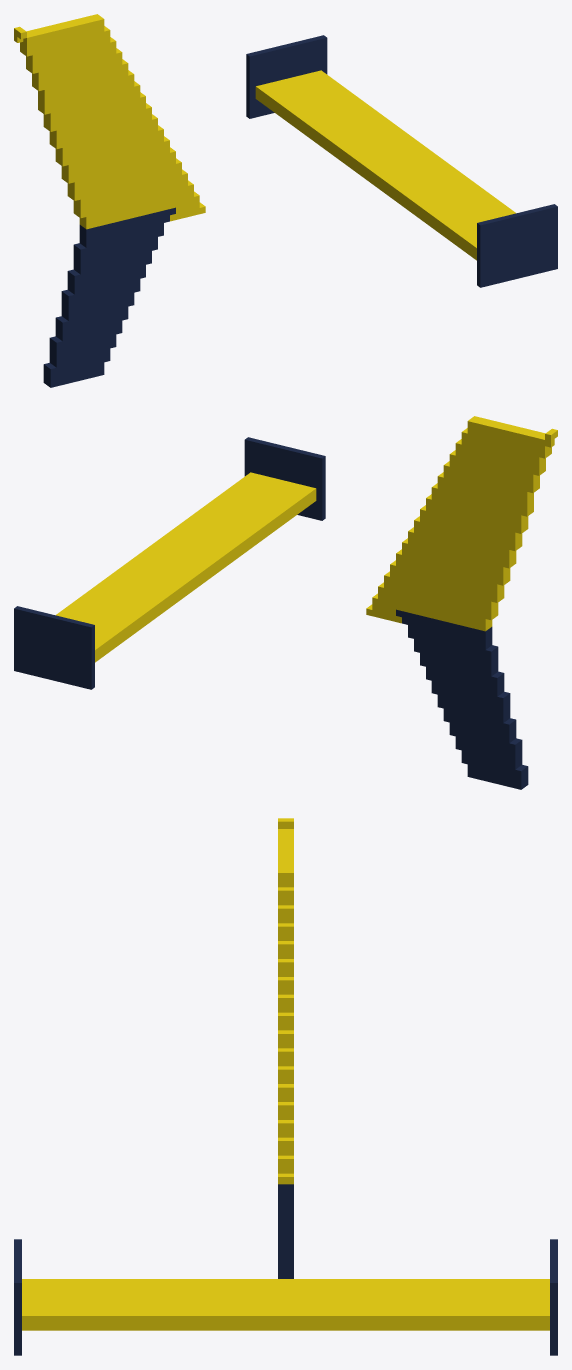
File: police_helicopter_tail_surfaces.glb
The picture shows the model from 3 angles, top to bottom: view 1: azimuth 30°, elevation 25°; view 2: azimuth 150°, elevation 25°; view 3: azimuth 270°, elevation 25°; orthographic projection. The views are drawn at different scales.
Visible parts, largest first — view 1: body:compound; view 2: body:compound; view 3: body:compound.
Part boxes in pixels (x1,y1,x2,y2): body:compound: (14,14,557,387); body:compound: (14,416,557,789); body:compound: (14,818,557,1355).
Bounding box in the file's own units: 2.22 × 1.81 × 2.12.
